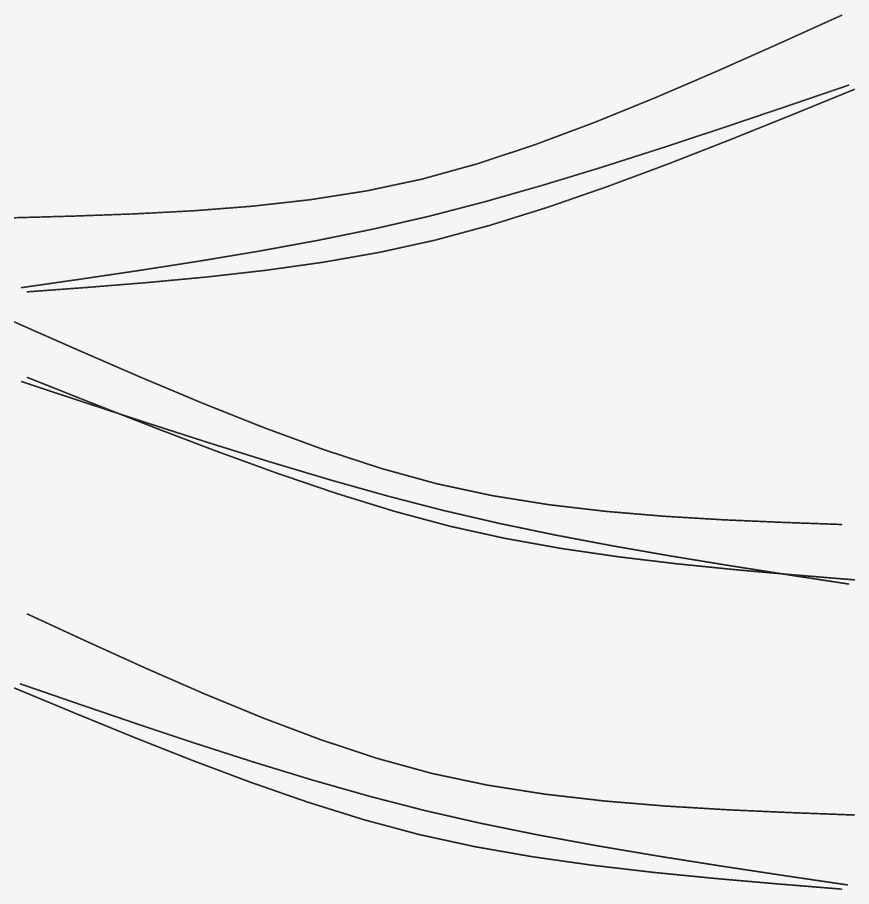
Rendered from LampPoleWires.FBX.
The picture shows the model from 3 angles, top to bottom: view 1: azimuth 30°, elevation 25°; view 2: azimuth 150°, elevation 25°; view 3: azimuth 330°, elevation 25°; orthographic projection.
Parts seen in each view (by area): view 1: LampPoleWires; view 2: LampPoleWires; view 3: LampPoleWires.
Boxes of the visible parts, x1,y1,x2,y2 form: LampPoleWires: (14,14,854,292); LampPoleWires: (14,321,854,584); LampPoleWires: (14,613,854,889).
Size of the model in its own units: 560 by 73.18 by 17.6.
